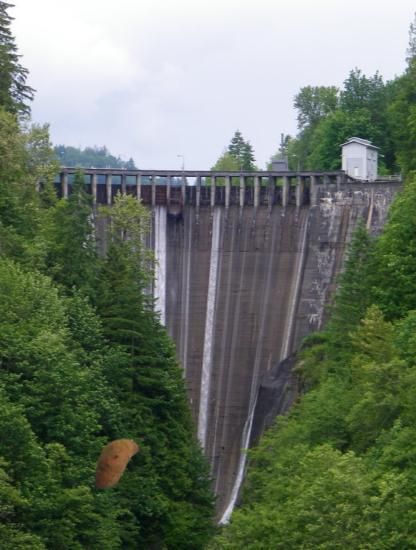Potato: (84, 434, 145, 495)
